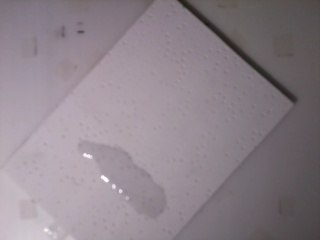Water_detected: (94, 154, 163, 213)
